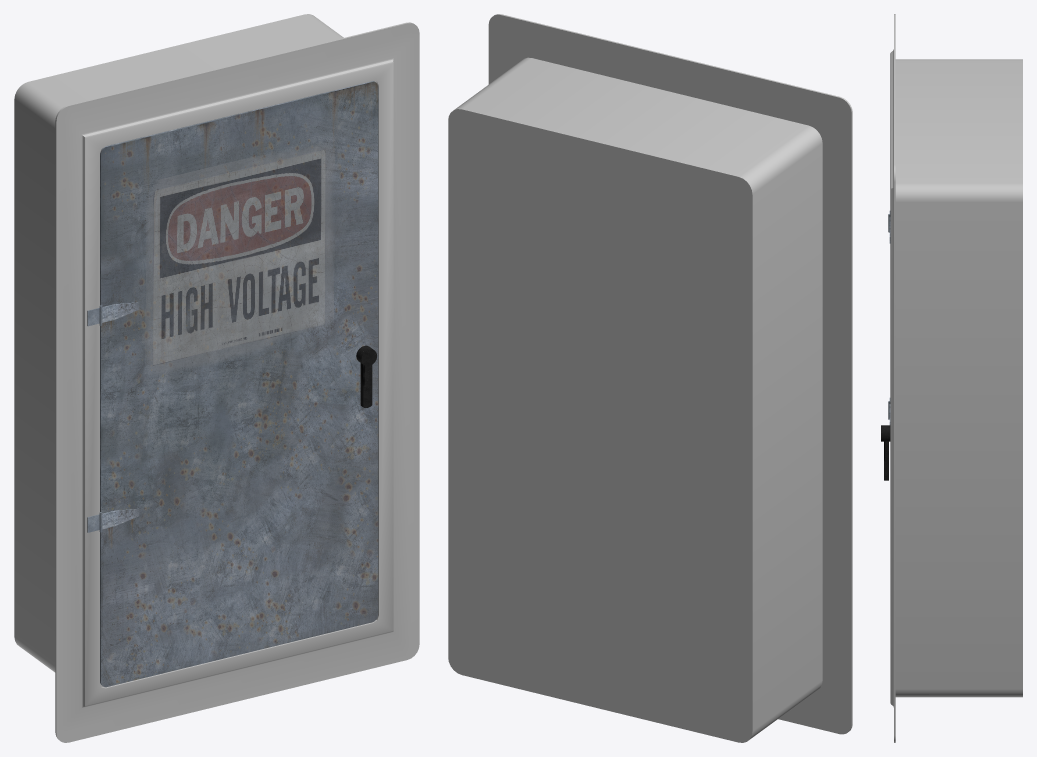
File: BreakerBox.fbx
The picture shows the model from 3 angles, left to right: view 1: azimuth 30°, elevation 25°; view 2: azimuth 150°, elevation 25°; view 3: azimuth 270°, elevation 25°; orthographic projection. The views are drawn at different scales.
Parts seen in each view (by area): view 1: DoorLP, ShellLP, Hinge1LP, HandleLP; view 2: ShellLP; view 3: ShellLP, HandleLP.
Part boxes in pixels (box(x1,y1,x2,y2)): DoorLP: box(100, 81, 378, 687); ShellLP: box(14, 14, 419, 742); Hinge1LP: box(102, 302, 139, 529); HandleLP: box(356, 345, 376, 407); ShellLP: box(448, 14, 852, 742); ShellLP: box(890, 14, 1022, 742); HandleLP: box(881, 425, 890, 480).
Bounding box in the file's own units: 142 × 237 × 52.84.
